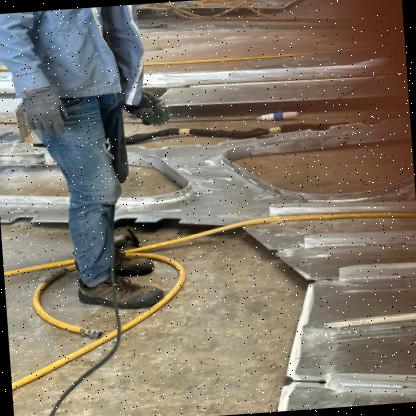bota: (72, 275, 168, 316), (112, 249, 157, 280)
